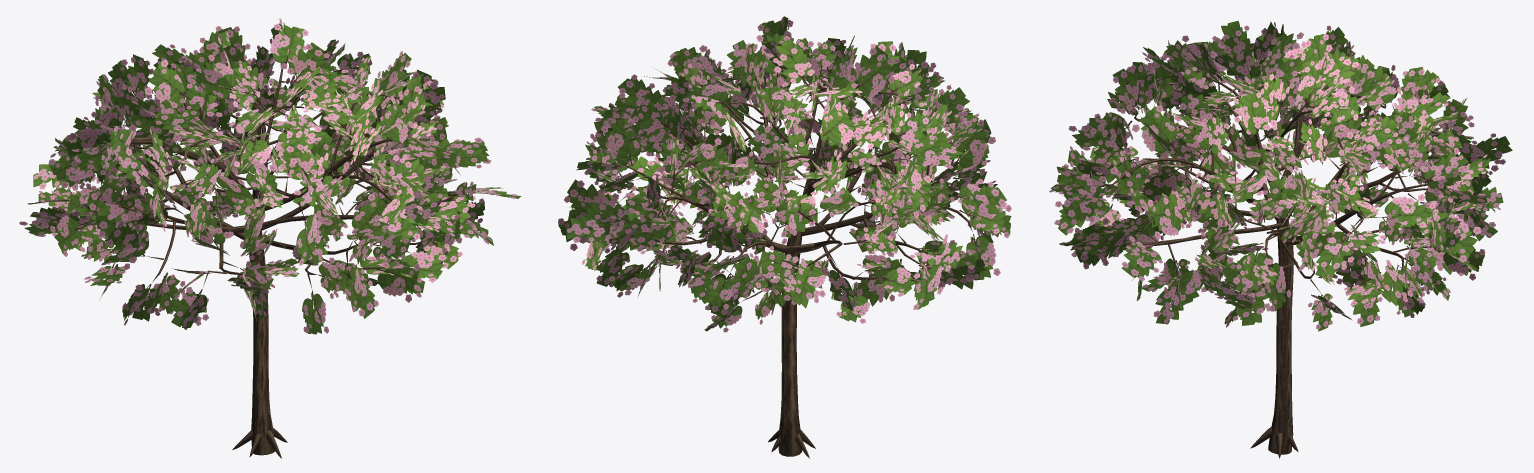
File: tree-blossom.glb
3 views of the same model, side by side, from view 1: azimuth 30°, elevation 25°; view 2: azimuth 150°, elevation 25°; view 3: azimuth 270°, elevation 25° (orthographic). The views are drawn at different scales.
Visible parts, largest first — view 1: Tree_Blossom; view 2: Tree_Blossom; view 3: Tree_Blossom.
Part boxes in pixels (bbox=[...]): Tree_Blossom: bbox=[19, 18, 521, 458]; Tree_Blossom: bbox=[558, 16, 1011, 458]; Tree_Blossom: bbox=[1049, 20, 1512, 458].
Size of the model in its own units: 8.79 by 8.49 by 9.04.
2 materials, 2 textured.
